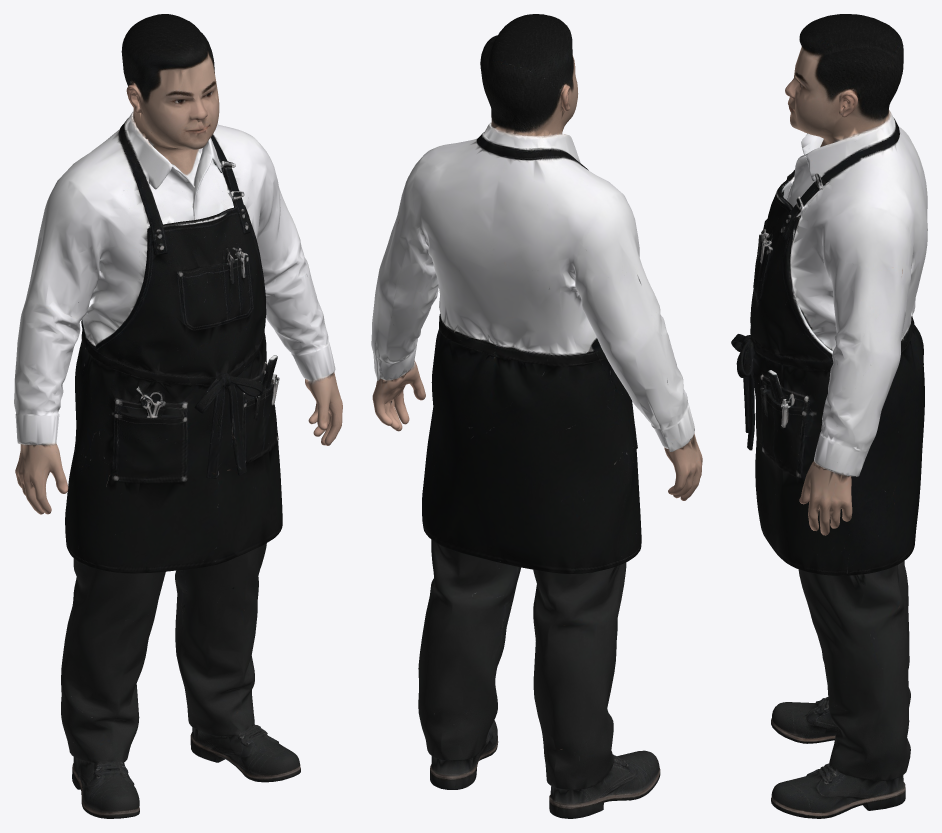
File: modelo.glb
3 views of the same model, side by side, from view 1: azimuth 30°, elevation 25°; view 2: azimuth 150°, elevation 25°; view 3: azimuth 270°, elevation 25° (orthographic).
Bounding box in the file's own units: 0.8127 × 1.85 × 0.4382.
Materials: 1 (1 with a texture image).
